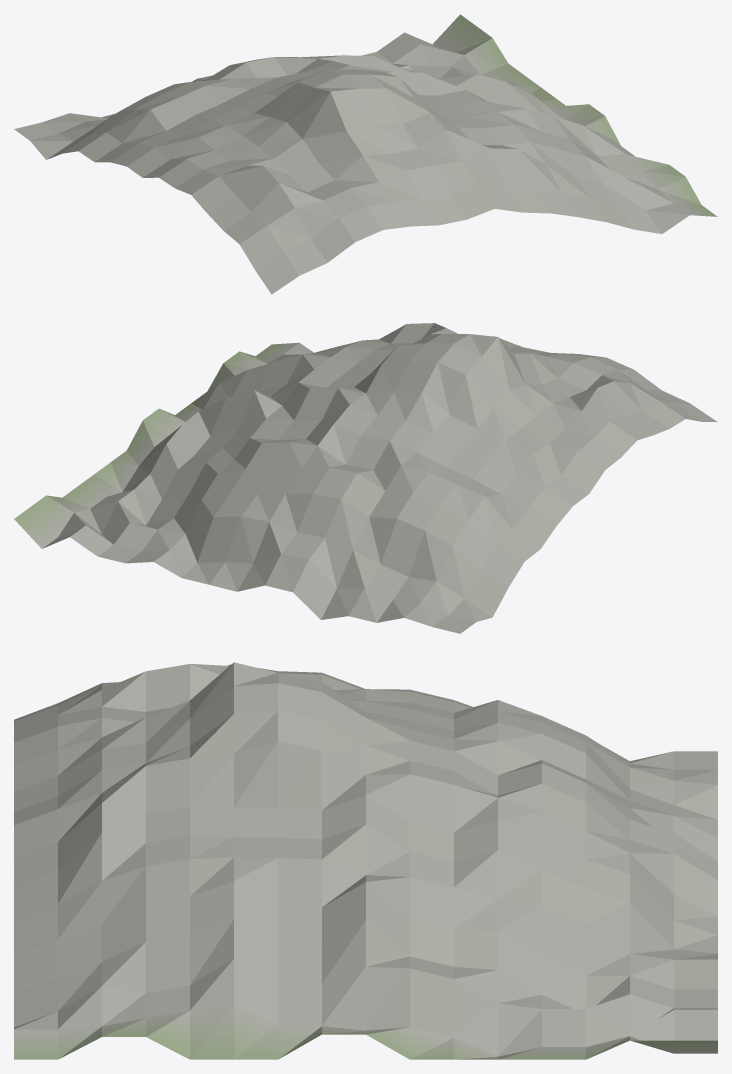
3 views of the same model, one above another, from view 1: azimuth 30°, elevation 25°; view 2: azimuth 150°, elevation 25°; view 3: azimuth 270°, elevation 25° (orthographic). The views are drawn at different scales.
Bounding box in the file's own units: 32 × 10.51 × 32.
